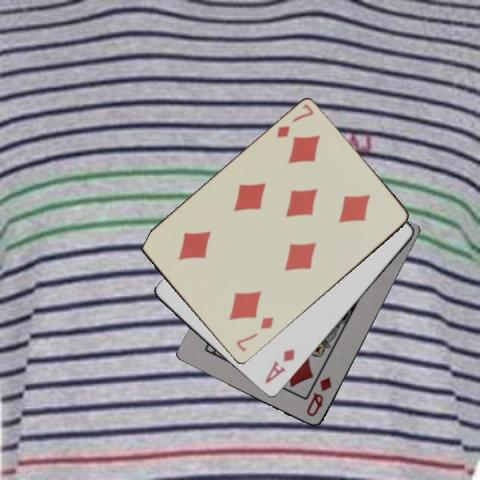7d: (233, 314, 275, 353), (273, 101, 315, 140)
Ad: (262, 346, 297, 385)
Qd: (303, 374, 334, 419)
